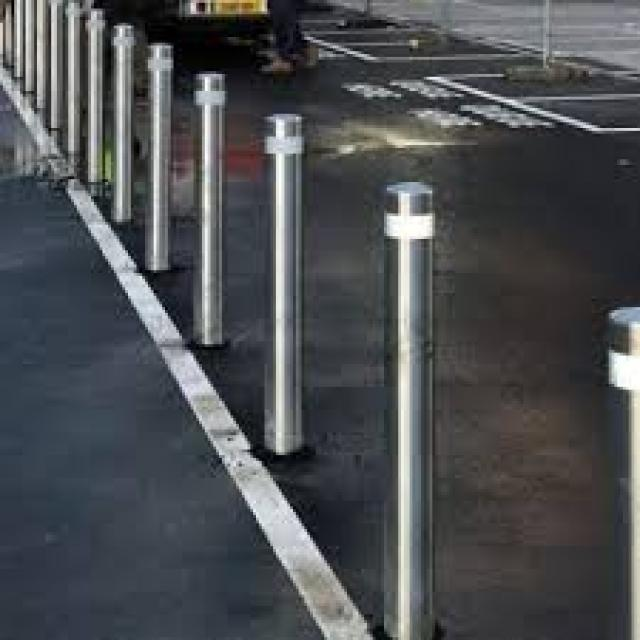bollard: (376, 160, 441, 640), (261, 91, 313, 462), (600, 296, 639, 638), (192, 63, 237, 349), (144, 41, 175, 280), (112, 16, 135, 227), (87, 6, 109, 188), (65, 0, 79, 160), (50, 0, 64, 132), (33, 0, 47, 111), (22, 0, 35, 94), (12, 0, 24, 78)
